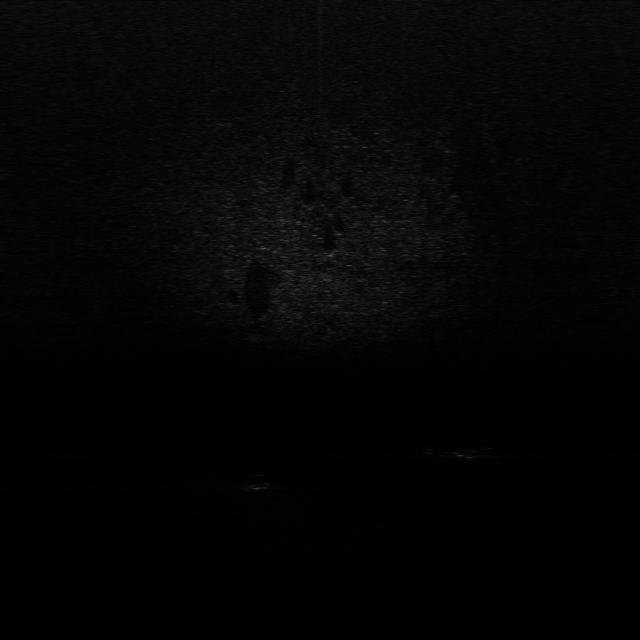ball: (242, 469, 276, 492)
human body: (423, 440, 509, 462)
